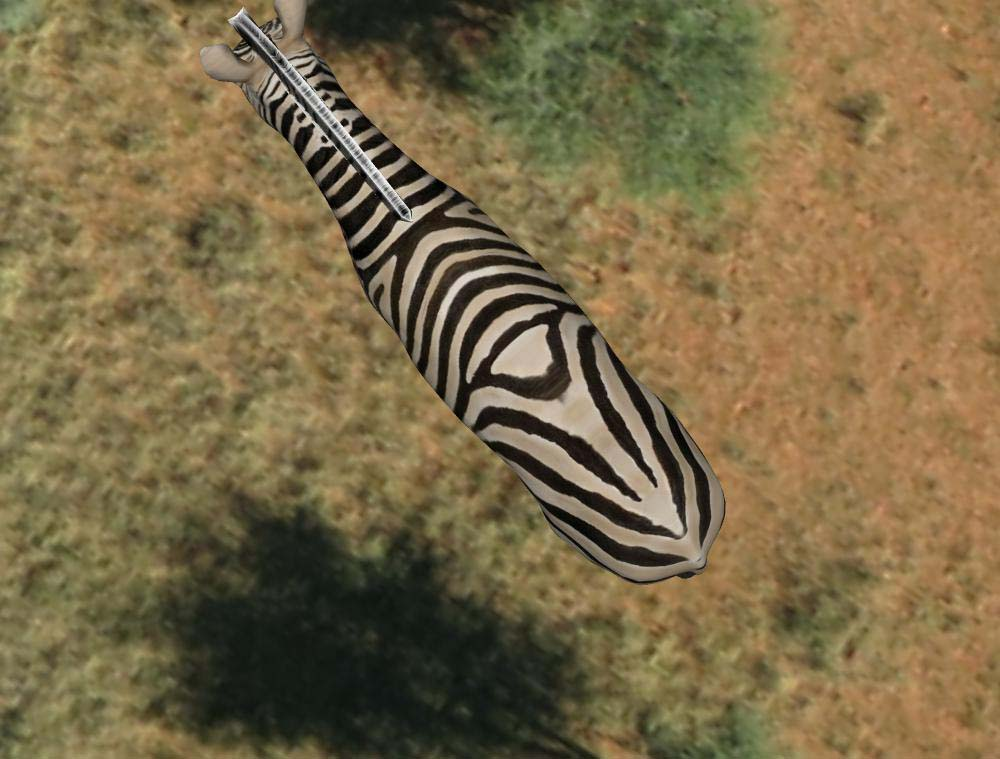zebra: (199, 1, 731, 594)
